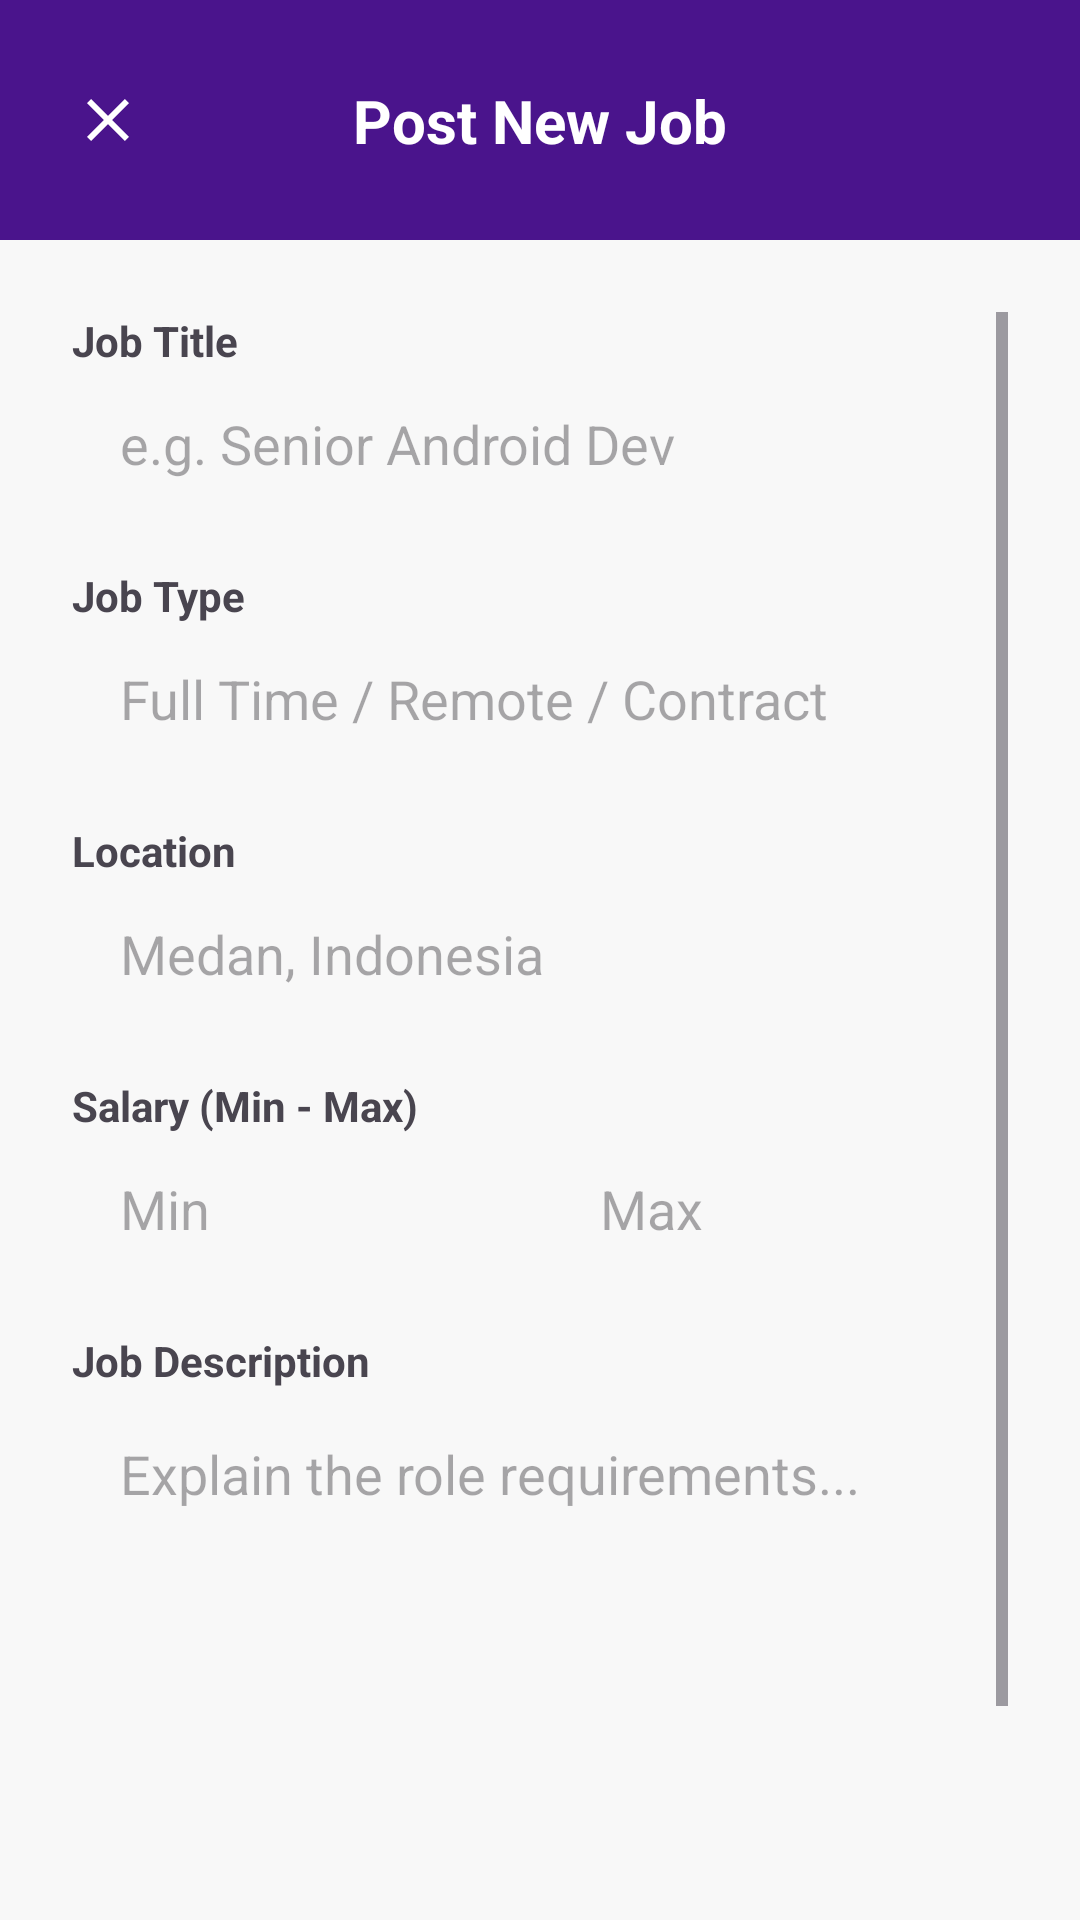

Icons on this 1080px×1920px Android screen, each with its box as [x1, y1, x2, y2]:
close: [87, 99, 129, 141]
